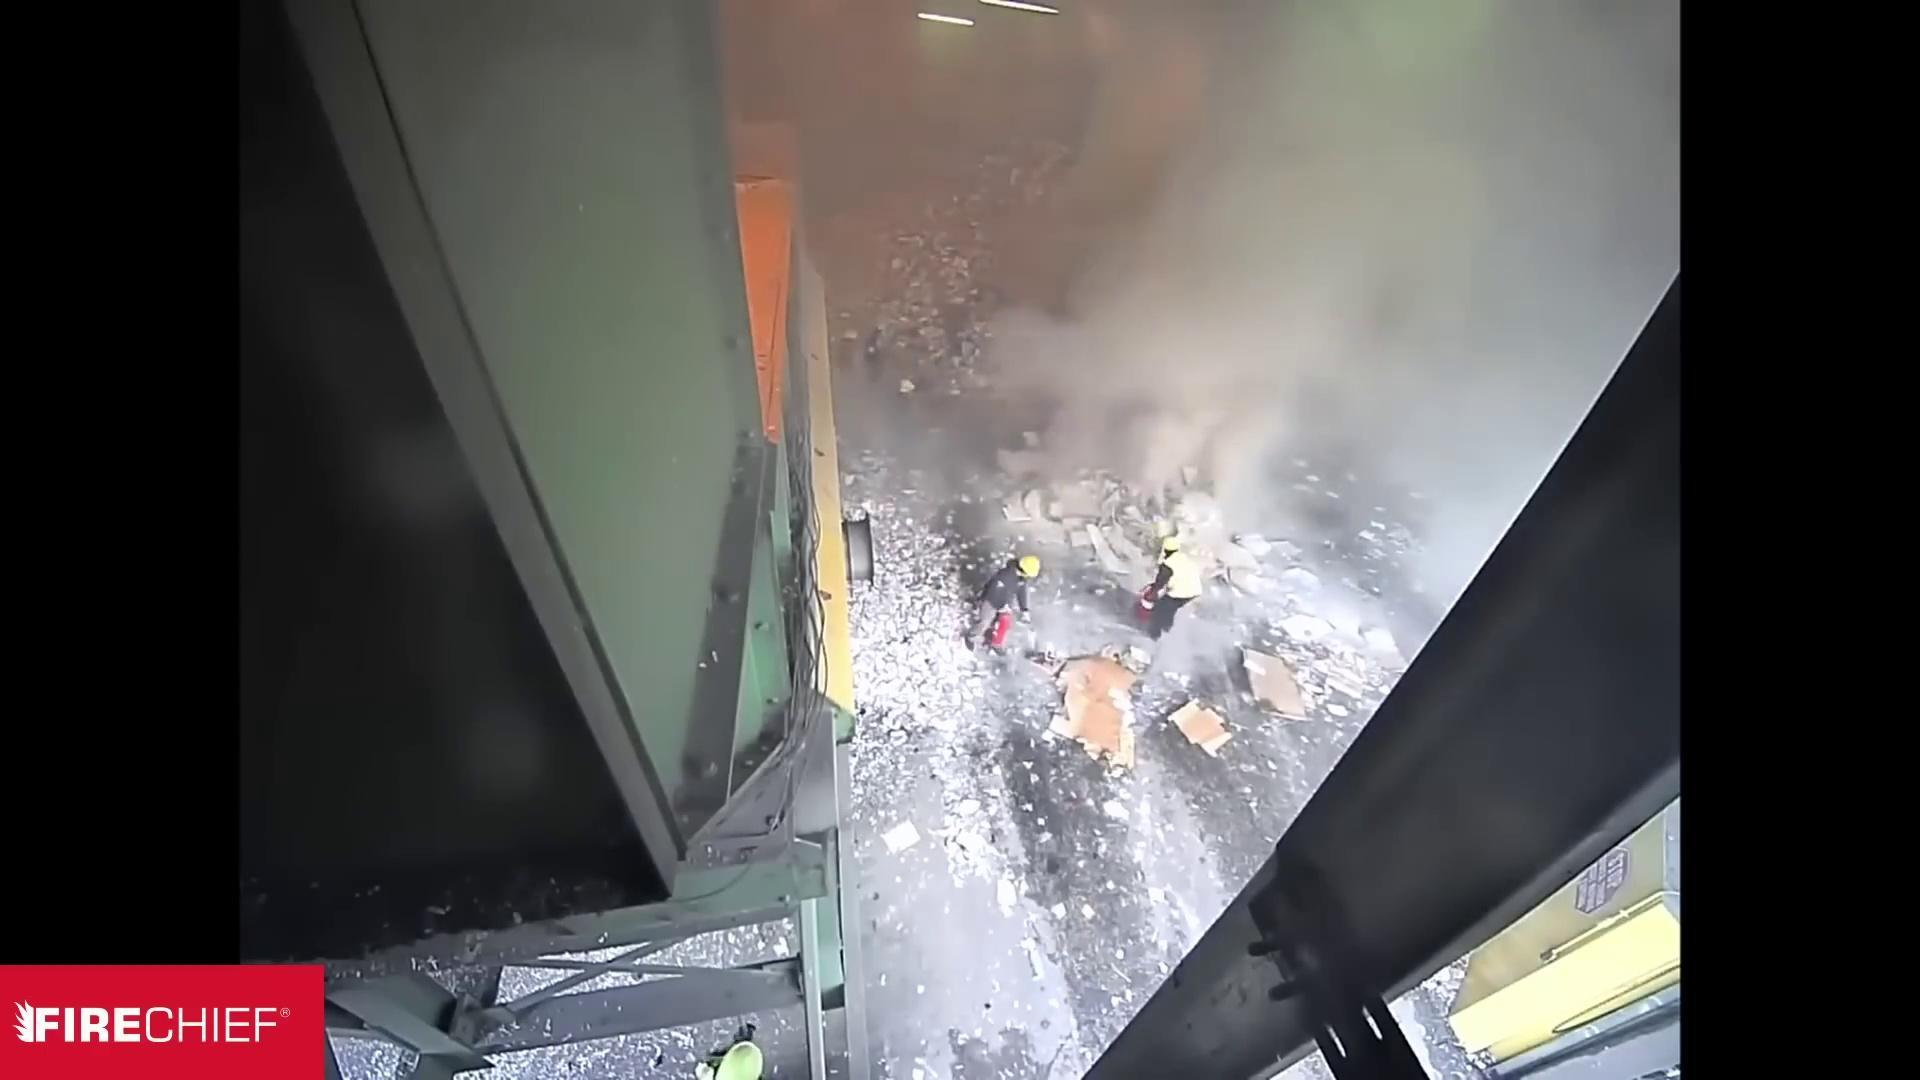smoke: (939, 115, 1468, 634)
